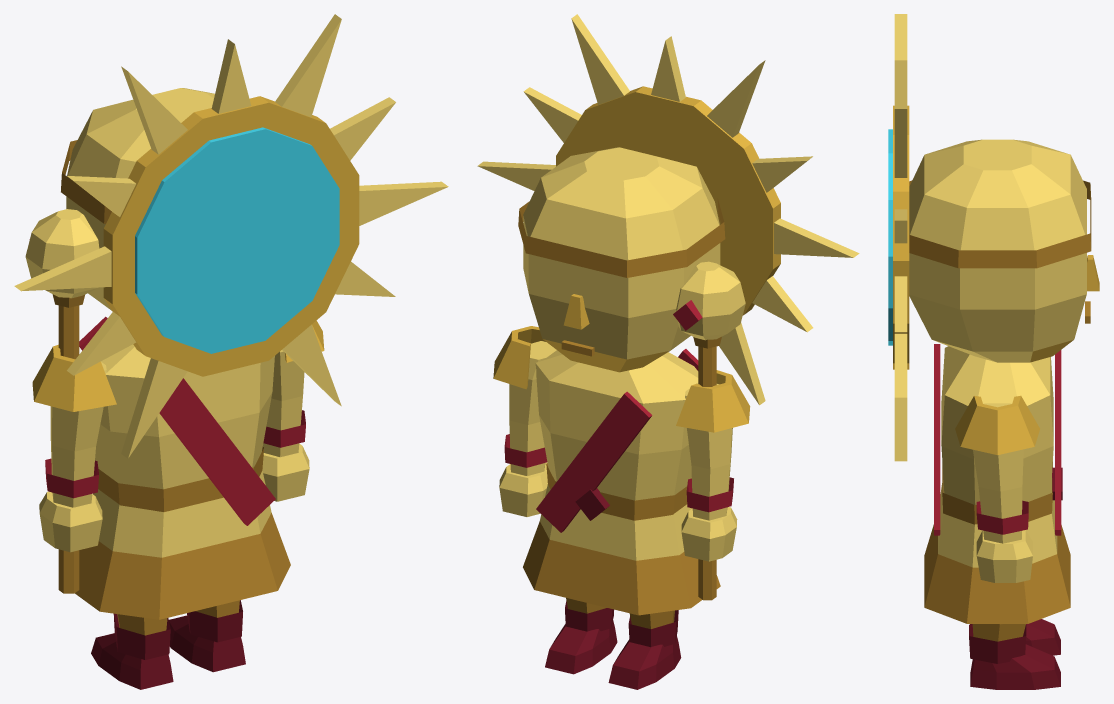
The model's file is CH_GoldenIdol.fbx.
3 renders of one model, left to right at view 1: azimuth 30°, elevation 25°; view 2: azimuth 150°, elevation 25°; view 3: azimuth 270°, elevation 25°, orthographic. The views are drawn at different scales.
Visible parts, largest first — view 1: Head, Body, ArmL, ArmR, LegL, LegR; view 2: Head, Body, ArmL, ArmR, LegL, LegR; view 3: Head, Body, ArmR, LegR, LegL.
Part boxes in pixels (x1,y1,x2,y2): Head: (14,14,448,458); Body: (75,316,290,619); ArmL: (25,209,116,593); ArmR: (262,320,324,501); LegL: (91,613,173,689); LegR: (169,600,245,672); Head: (477,14,859,405); Body: (523,349,720,615); ArmL: (673,261,750,600); ArmR: (493,326,556,516); LegL: (608,610,681,689); LegR: (545,598,617,674); Head: (888,14,1099,461); Body: (924,344,1070,623); ArmR: (955,395,1039,582); LegR: (969,624,1060,689); LegL: (970,619,1060,655).
Bounding box in the file's own units: 1.24 × 0.5829 × 1.84.
